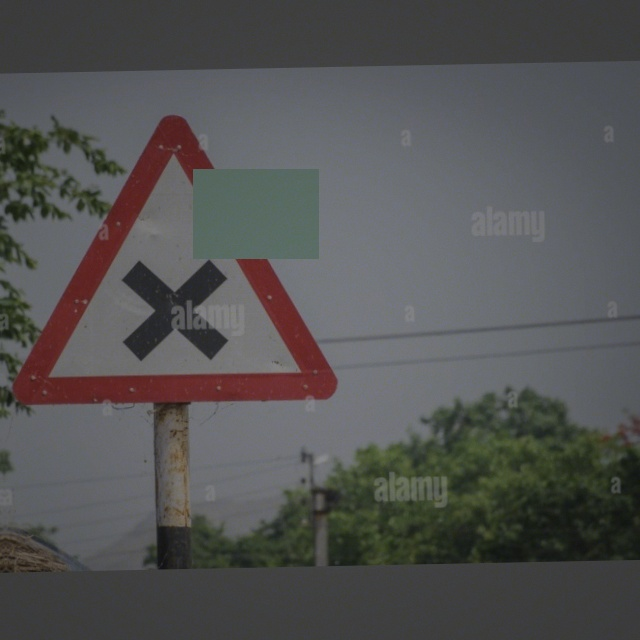Cross_Road: (28, 126, 336, 403)
